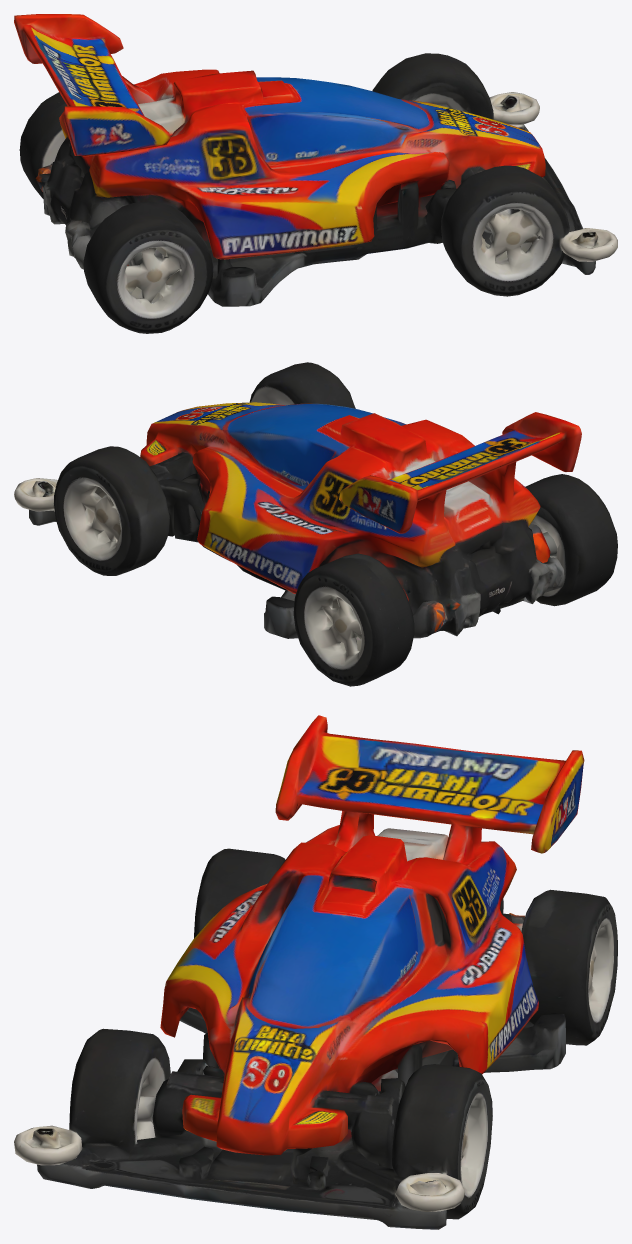
The model's file is mini4wd.glb.
3 renders of one model, top to bottom at view 1: azimuth 30°, elevation 25°; view 2: azimuth 150°, elevation 25°; view 3: azimuth 270°, elevation 25°, orthographic. The views are drawn at different scales.
Visible parts, largest first — view 1: tripo_node_8f42abc4-c3ff-4ef7-8cfa-6d9bb4d9830b; view 2: tripo_node_8f42abc4-c3ff-4ef7-8cfa-6d9bb4d9830b; view 3: tripo_node_8f42abc4-c3ff-4ef7-8cfa-6d9bb4d9830b.
Part boxes in pixels (<box>): tripo_node_8f42abc4-c3ff-4ef7-8cfa-6d9bb4d9830b: <box>14,14,617,333</box>; tripo_node_8f42abc4-c3ff-4ef7-8cfa-6d9bb4d9830b: <box>14,362,617,686</box>; tripo_node_8f42abc4-c3ff-4ef7-8cfa-6d9bb4d9830b: <box>14,715,617,1229</box>.
Size of the model in its own units: 1 by 0.3806 by 0.8318.
1 material, 1 textured.
